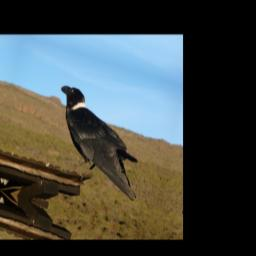Crow: (43, 80, 154, 202)
